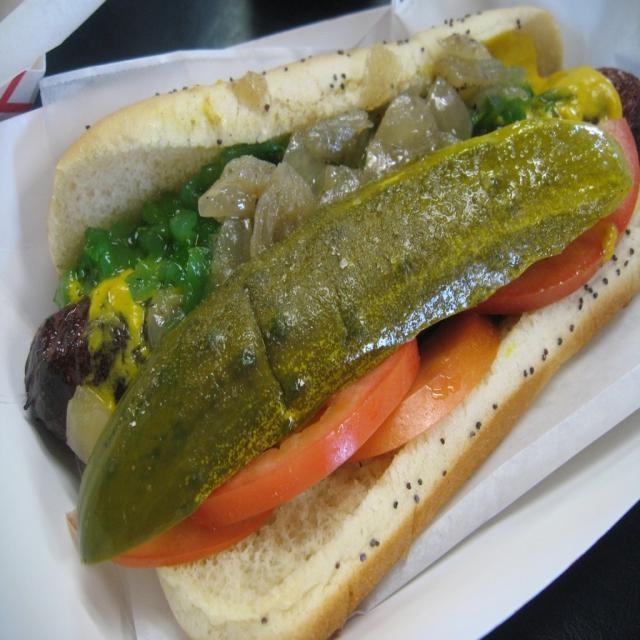Hot dog: (9, 0, 639, 639)
